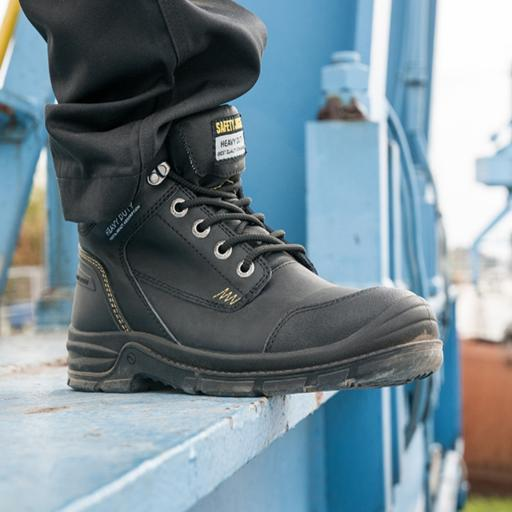safety_boots: (54, 178, 463, 404)
